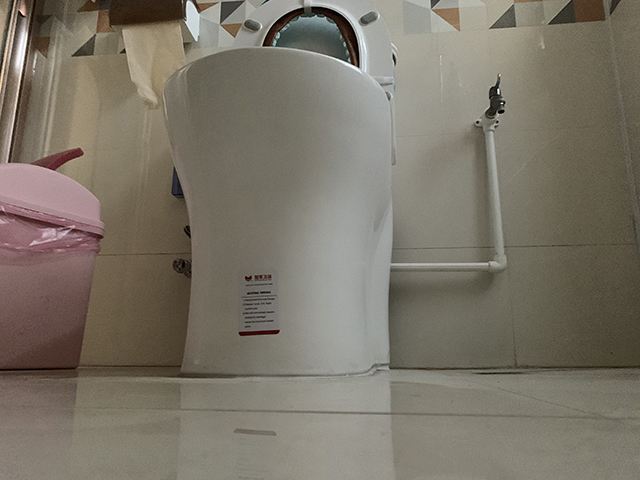closestool: (160, 1, 399, 377)
trashcan: (1, 147, 105, 372)
